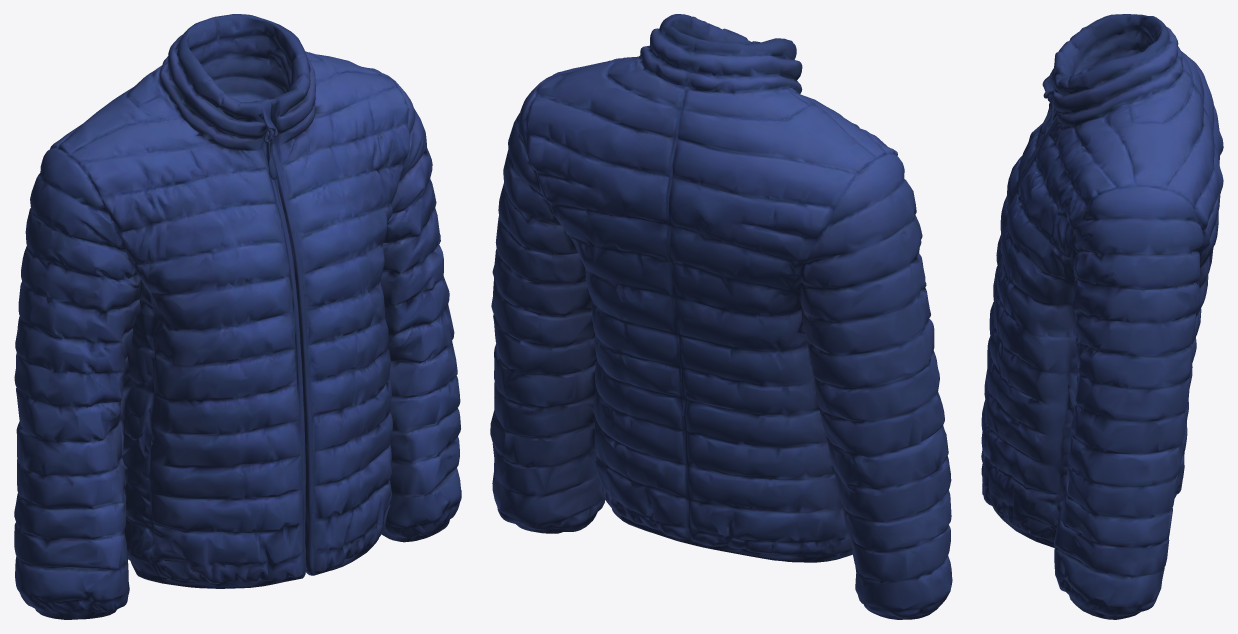
3 renders of one model, left to right at view 1: azimuth 30°, elevation 25°; view 2: azimuth 150°, elevation 25°; view 3: azimuth 270°, elevation 25°, orthographic. The views are drawn at different scales.
Parts seen in each view (by area): view 1: tripo_node_26430ac6-d24f-405e-9c2d-03d48534c331; view 2: tripo_node_26430ac6-d24f-405e-9c2d-03d48534c331; view 3: tripo_node_26430ac6-d24f-405e-9c2d-03d48534c331.
Part boxes in pixels (x1=…): tripo_node_26430ac6-d24f-405e-9c2d-03d48534c331: x1=14, y1=14, x2=461, y2=619; tripo_node_26430ac6-d24f-405e-9c2d-03d48534c331: x1=490, y1=14, x2=952, y2=619; tripo_node_26430ac6-d24f-405e-9c2d-03d48534c331: x1=981, y1=14, x2=1223, y2=619.
Size of the model in its own units: 0.8545 by 0.9998 by 0.4397.
1 material, 1 textured.
